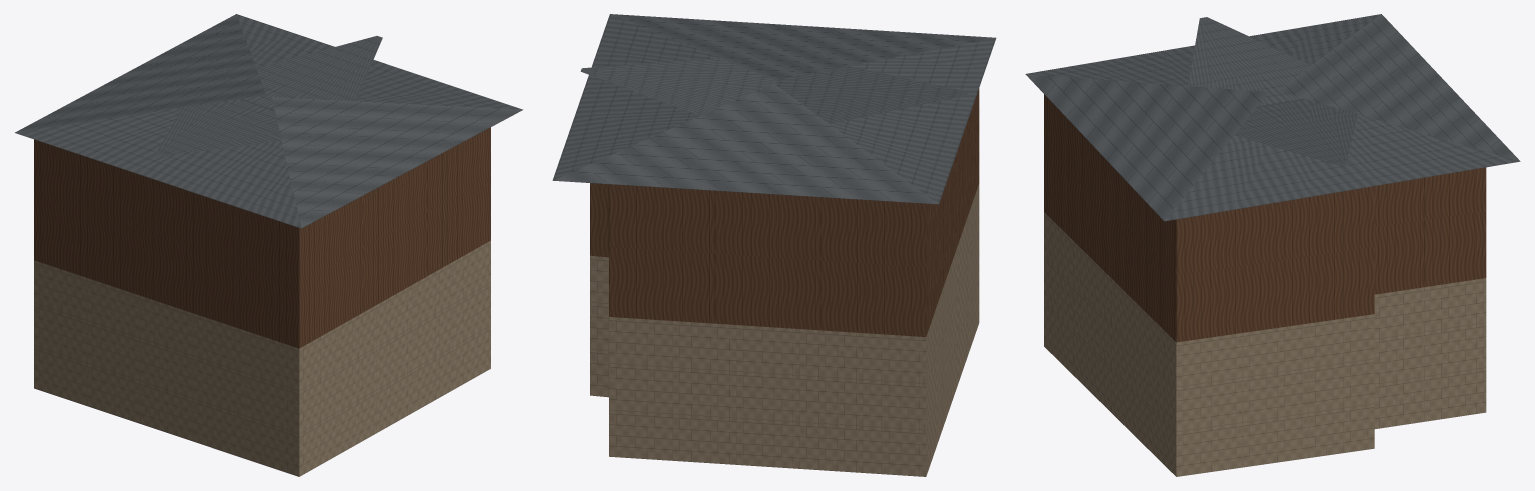
File: bld_c8_17_435.gltf
3 renders of one model, left to right at view 1: azimuth 30°, elevation 25°; view 2: azimuth 150°, elevation 25°; view 3: azimuth 270°, elevation 25°, orthographic. The views are drawn at different scales.
Parts seen in each view (by area): view 1: bld_c8_17_435; view 2: bld_c8_17_435; view 3: bld_c8_17_435.
Part boxes in pixels (bbox=[...]): bld_c8_17_435: bbox=[15, 14, 522, 476]; bld_c8_17_435: bbox=[552, 14, 996, 476]; bld_c8_17_435: bbox=[1025, 14, 1520, 476].
Size of the model in its own units: 16.87 by 11.2 by 17.02.
Materials: 3 (3 with a texture image).
